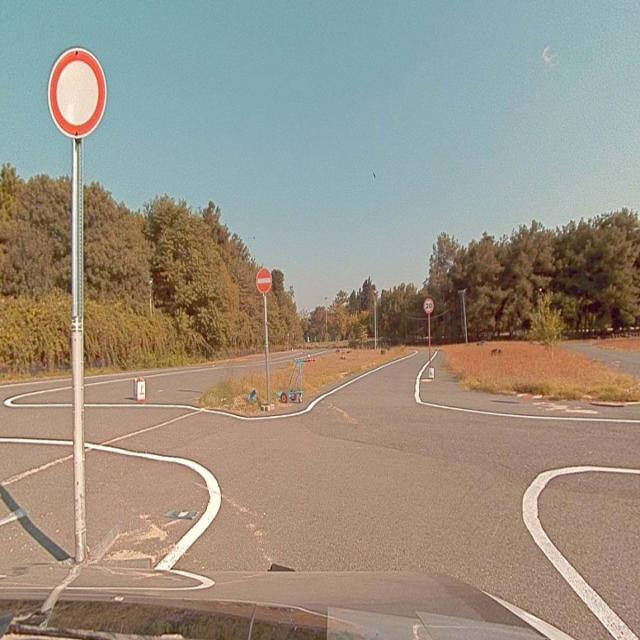20: (424, 299, 433, 312)
girisyok: (256, 268, 272, 294)
